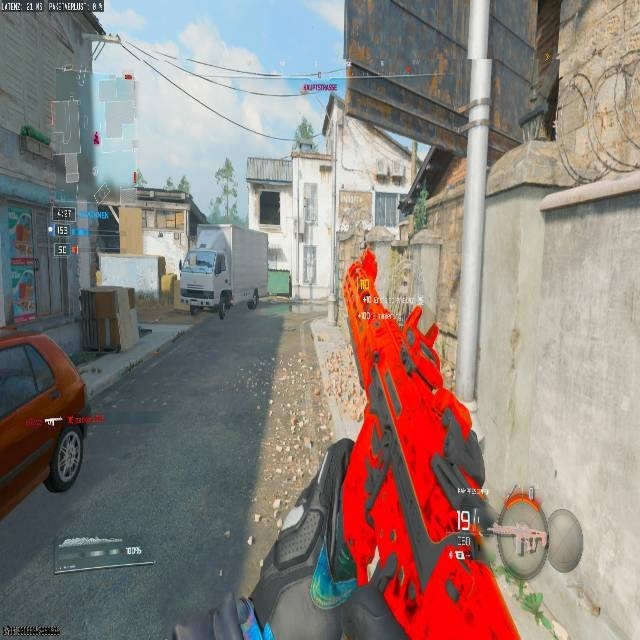player: (219, 288, 233, 320)
